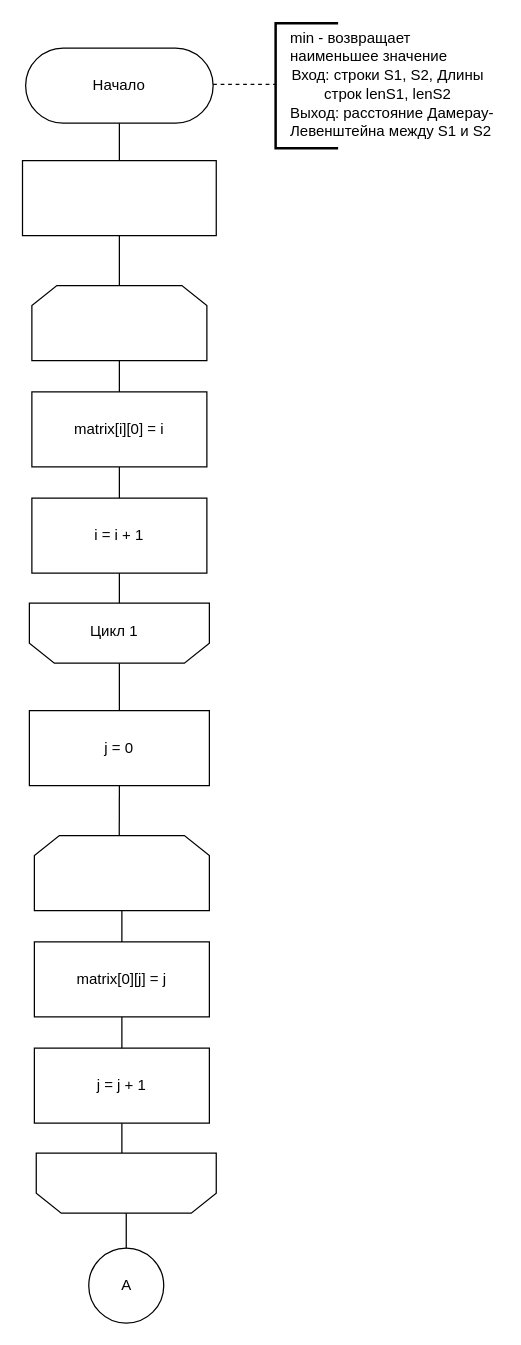
Some shapes in this 521 by 1345 pixel diagram are drawn without their labels. The shapes that lost their labels are listed below. From the top down, each one's centre as x and y in pixels, then its label:
At pixel 118 197: "Выделить память под матрицу matrix размером lenS1 на lenS2".
At pixel 119 322: "Цикл 1 i <= lenS1".
At pixel 121 872: "Цикл 2 j <= lenS2".
At pixel 125 1182: "Цикл 2".
